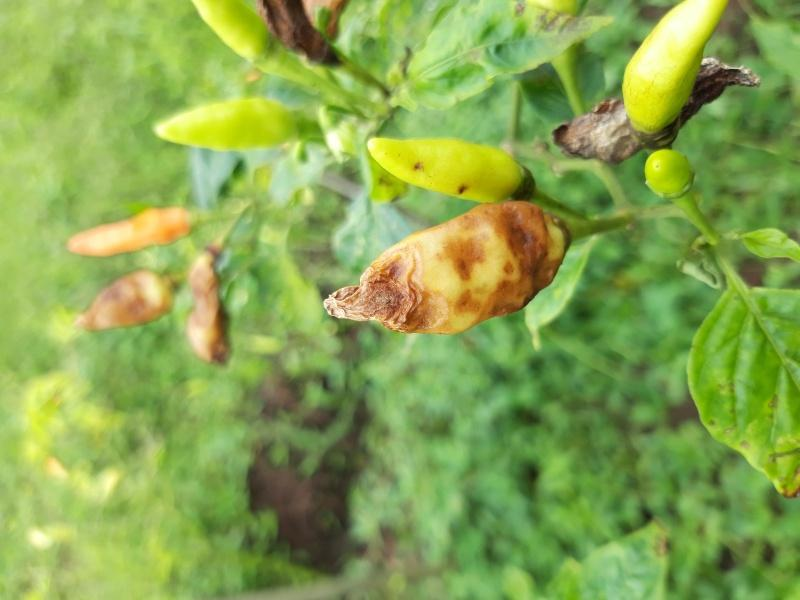antraknosa: (323, 200, 556, 333), (558, 59, 762, 164), (365, 137, 522, 197), (184, 254, 231, 366), (265, 1, 326, 64)
cabai_normal: (626, 1, 724, 132), (153, 96, 299, 156), (65, 206, 192, 255), (192, 1, 266, 61), (643, 149, 691, 193)
lalat_buah: (75, 271, 174, 332)
